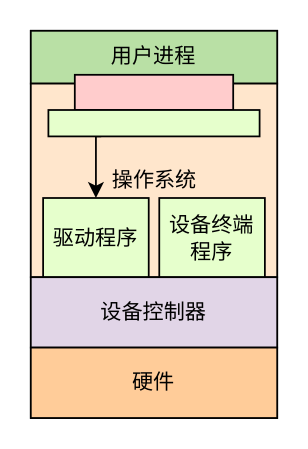
The diagram is 308 pixels wide and 449 high, and some of its shapes have lost their labels. Here are the shapes that lost their labels. From the top down, the box of each, then its label:
(73, 73, 233, 110): 文件系统接口
(47, 108, 260, 136): vfs
